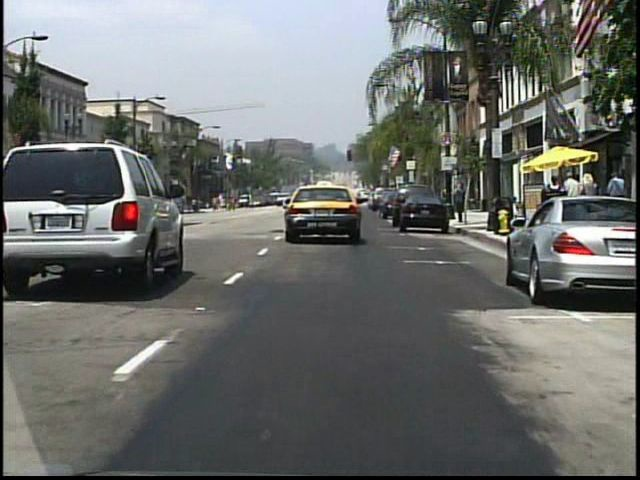person: (604, 170, 628, 227), (576, 171, 599, 225), (561, 171, 581, 225), (542, 174, 561, 225), (245, 193, 253, 208)
